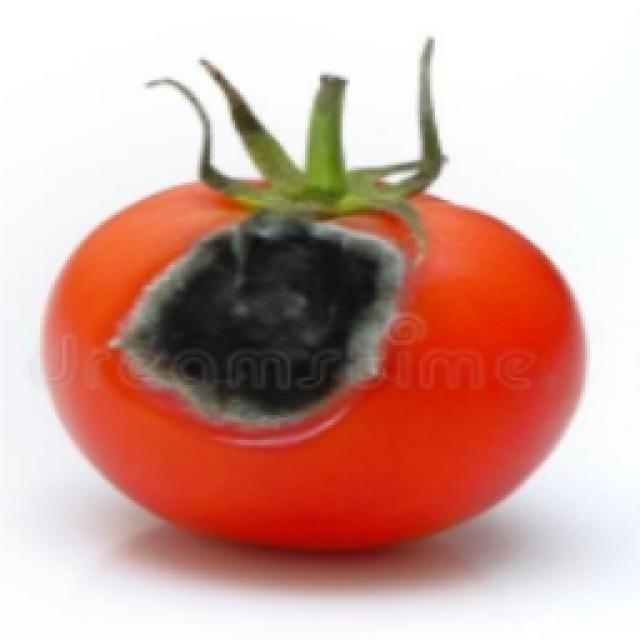overripe tomato: (38, 81, 615, 558)
